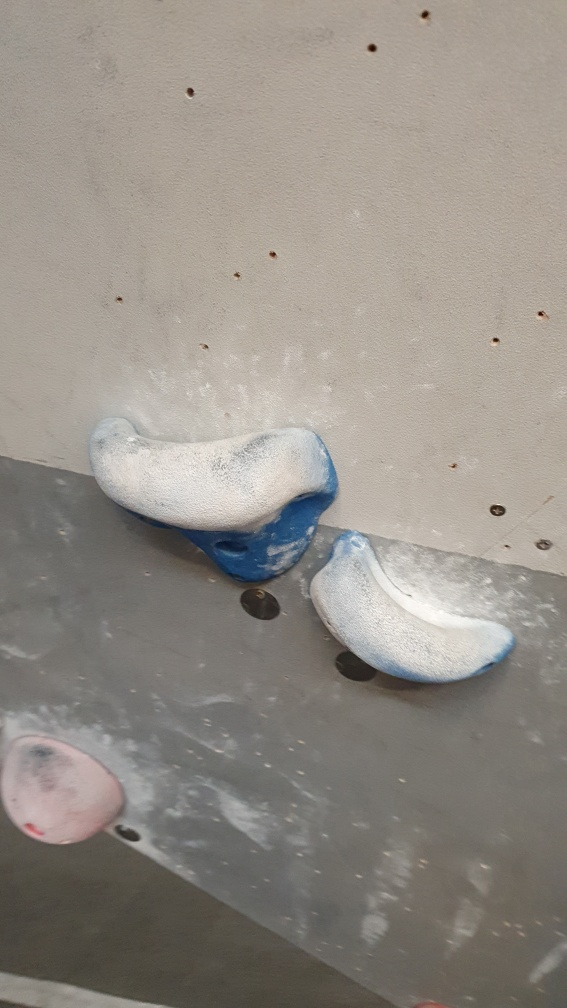Hand Start: (328, 642, 378, 686), (238, 585, 286, 627), (109, 817, 145, 848)
Jug: (87, 416, 348, 577), (306, 531, 518, 703)
Sloper: (1, 726, 133, 849)
